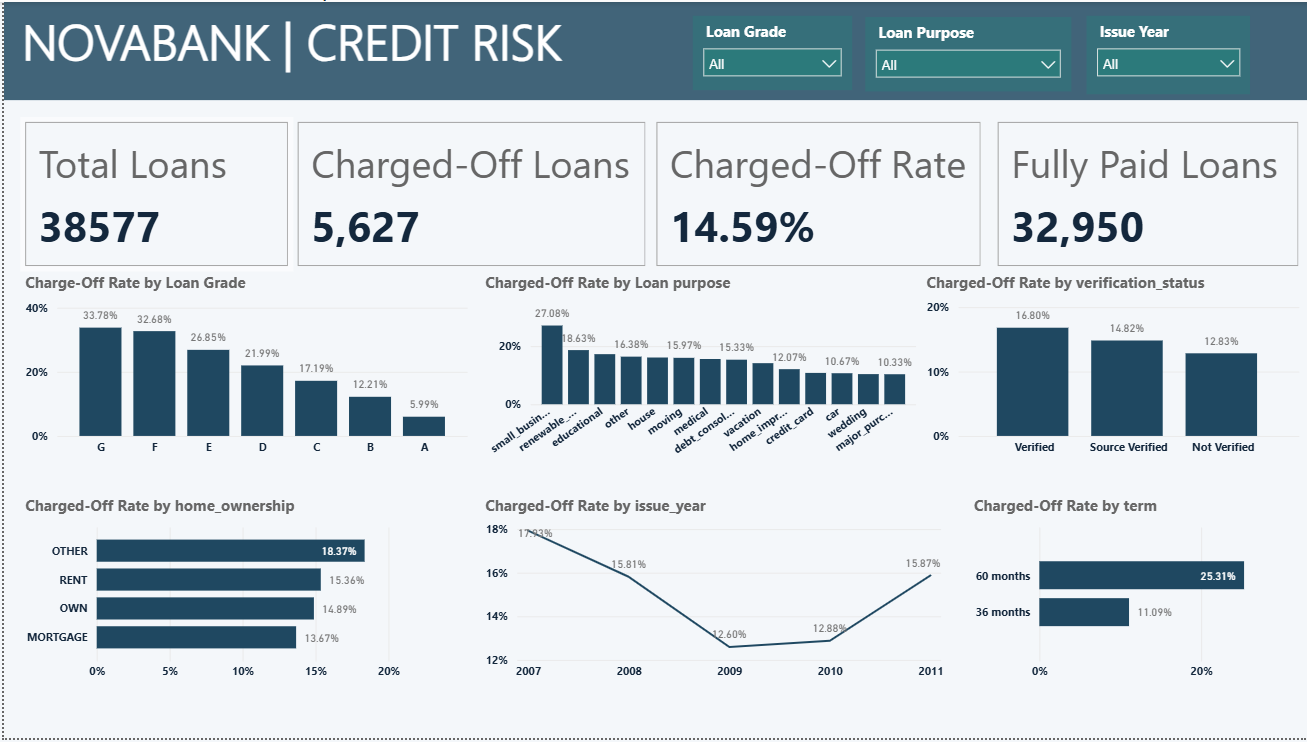

The page's visual inventory and layout, read from the dashboard file:
{"tool":"powerbi","page":{"name":"credit risk","canvas":[1280,720],"ordinal":0},"visuals":[{"type":"cardVisual","fields":{"Data":["credit_risk_cohort.Total Loans"]},"box":[15.7,112.9,267.1,151.4],"z":0},{"type":"cardVisual","fields":{"Data":["credit_risk_cohort.Charged-Off Loans"]},"box":[282.9,112.9,350,151.4],"z":1000},{"type":"cardVisual","fields":{"Data":["credit_risk_cohort.Charged-Off Rate"]},"box":[632.9,112.9,327.1,151.4],"z":2000},{"type":"cardVisual","fields":{"Data":["credit_risk_cohort.Fully Paid Loans"]},"box":[967.1,112.9,304.3,151.4],"z":3000},{"type":"textbox","box":[0,0,1280,95.7],"z":4000},{"type":"clusteredColumnChart","title":"Charge-Off Rate by Loan Grade","fields":{"Category":["credit_risk_cohort.grade"],"Y":["credit_risk_cohort.Charged-Off Rate"]},"box":[15.7,264.3,442.9,188.6],"z":5000},{"type":"clusteredColumnChart","title":"Charged-Off Rate by Loan purpose","fields":{"Category":["credit_risk_cohort.purpose"],"Y":["credit_risk_cohort.Charged-Off Rate"]},"box":[465.7,264.3,431.4,188.6],"z":6000},{"type":"slicer","fields":{"Values":["credit_risk_cohort.grade"]},"box":[674.3,12.9,155.7,72.9],"z":7000},{"type":"slicer","fields":{"Values":["credit_risk_cohort.purpose"]},"box":[842.9,14.3,201.4,72.9],"z":8000},{"type":"slicer","fields":{"Values":["credit_risk_cohort.issue_year"]},"box":[1058.6,12.9,160,77.1],"z":9000},{"type":"clusteredBarChart","fields":{"Category":["credit_risk_cohort.home_ownership"],"Y":["credit_risk_cohort.Charged-Off Rate"]},"box":[15.7,481.4,392.9,190],"z":10000},{"type":"lineChart","fields":{"Y":["credit_risk_cohort.Charged-Off Rate"],"Category":["credit_risk_cohort.issue_year"]},"box":[465.7,481.4,458.6,190],"z":11000},{"type":"clusteredColumnChart","fields":{"Category":["credit_risk_cohort.verification_status"],"Y":["credit_risk_cohort.Charged-Off Rate"]},"box":[897.1,264.3,374.3,188.6],"z":12000},{"type":"clusteredBarChart","fields":{"Category":["credit_risk_cohort.term"],"Y":["credit_risk_cohort.Charged-Off Rate"]},"box":[944.3,481.4,327.1,190],"z":13000}]}

Visuals, with their boxes in screenshot pixels (x1, y1, x2, y2), scaled from the page's 1280x720 canvas onto the 1307x742 screenshot:
cardVisual - credit_risk_cohort.Total Loans: <bbox>16, 116, 289, 272</bbox>
cardVisual - credit_risk_cohort.Charged-Off Loans: <bbox>289, 116, 646, 272</bbox>
cardVisual - credit_risk_cohort.Charged-Off Rate: <bbox>646, 116, 980, 272</bbox>
cardVisual - credit_risk_cohort.Fully Paid Loans: <bbox>987, 116, 1298, 272</bbox>
textbox: <bbox>0, 0, 1306, 99</bbox>
"Charge-Off Rate by Loan Grade" clusteredColumnChart: <bbox>16, 272, 468, 467</bbox>
"Charged-Off Rate by Loan purpose" clusteredColumnChart: <bbox>476, 272, 916, 467</bbox>
slicer - credit_risk_cohort.grade: <bbox>689, 13, 848, 88</bbox>
slicer - credit_risk_cohort.purpose: <bbox>861, 15, 1066, 90</bbox>
slicer - credit_risk_cohort.issue_year: <bbox>1081, 13, 1244, 93</bbox>
clusteredBarChart - credit_risk_cohort.home_ownership x credit_risk_cohort.Charged-Off Rate: <bbox>16, 496, 417, 692</bbox>
lineChart - credit_risk_cohort.Charged-Off Rate x credit_risk_cohort.issue_year: <bbox>476, 496, 944, 692</bbox>
clusteredColumnChart - credit_risk_cohort.verification_status x credit_risk_cohort.Charged-Off Rate: <bbox>916, 272, 1298, 467</bbox>
clusteredBarChart - credit_risk_cohort.term x credit_risk_cohort.Charged-Off Rate: <bbox>964, 496, 1298, 692</bbox>
